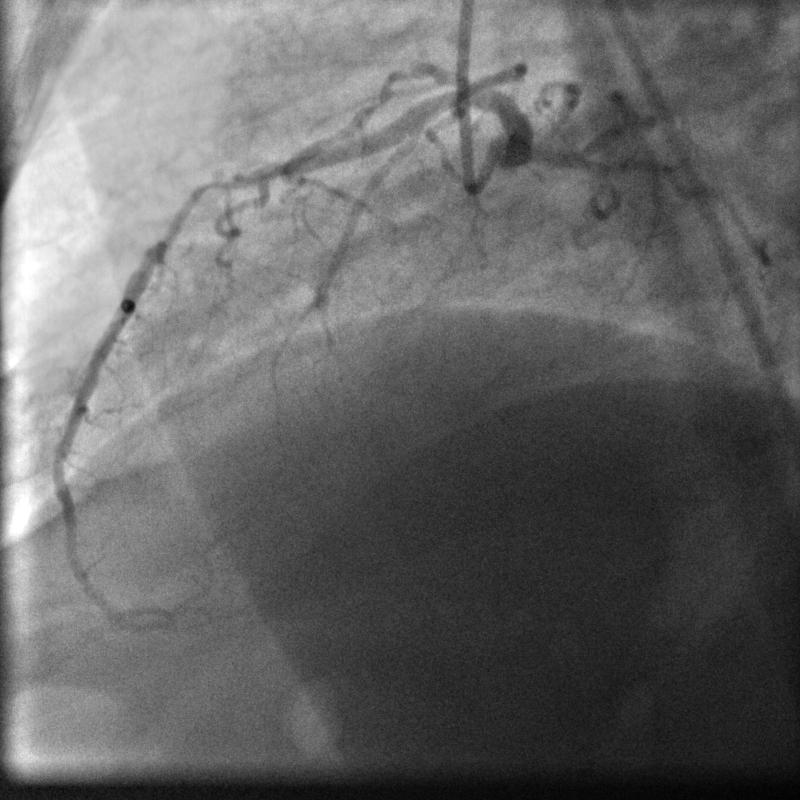Stenosis: (162, 171, 233, 236)
